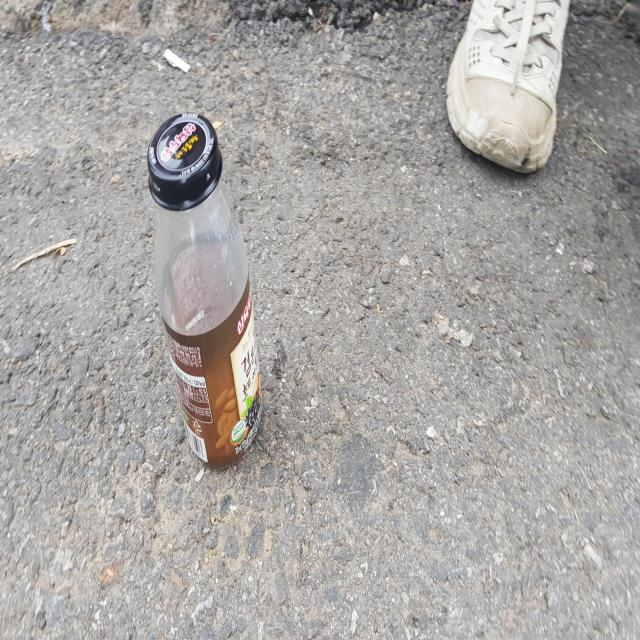glass: (147, 111, 261, 465)
